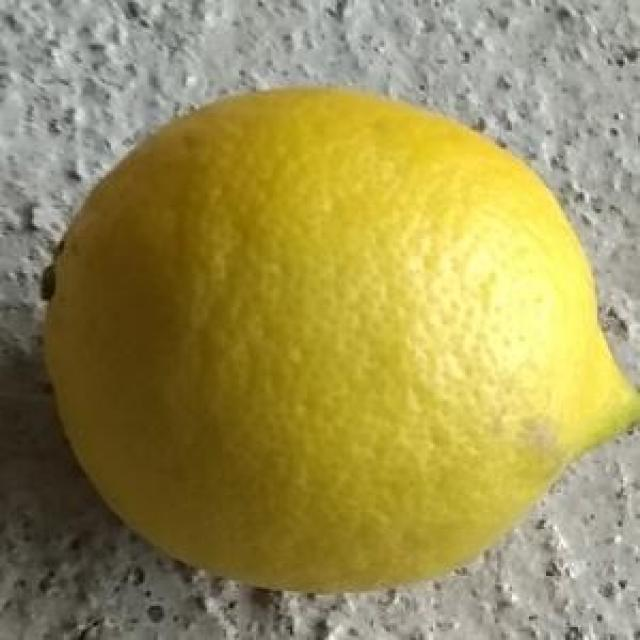lemon: (37, 79, 638, 596)
